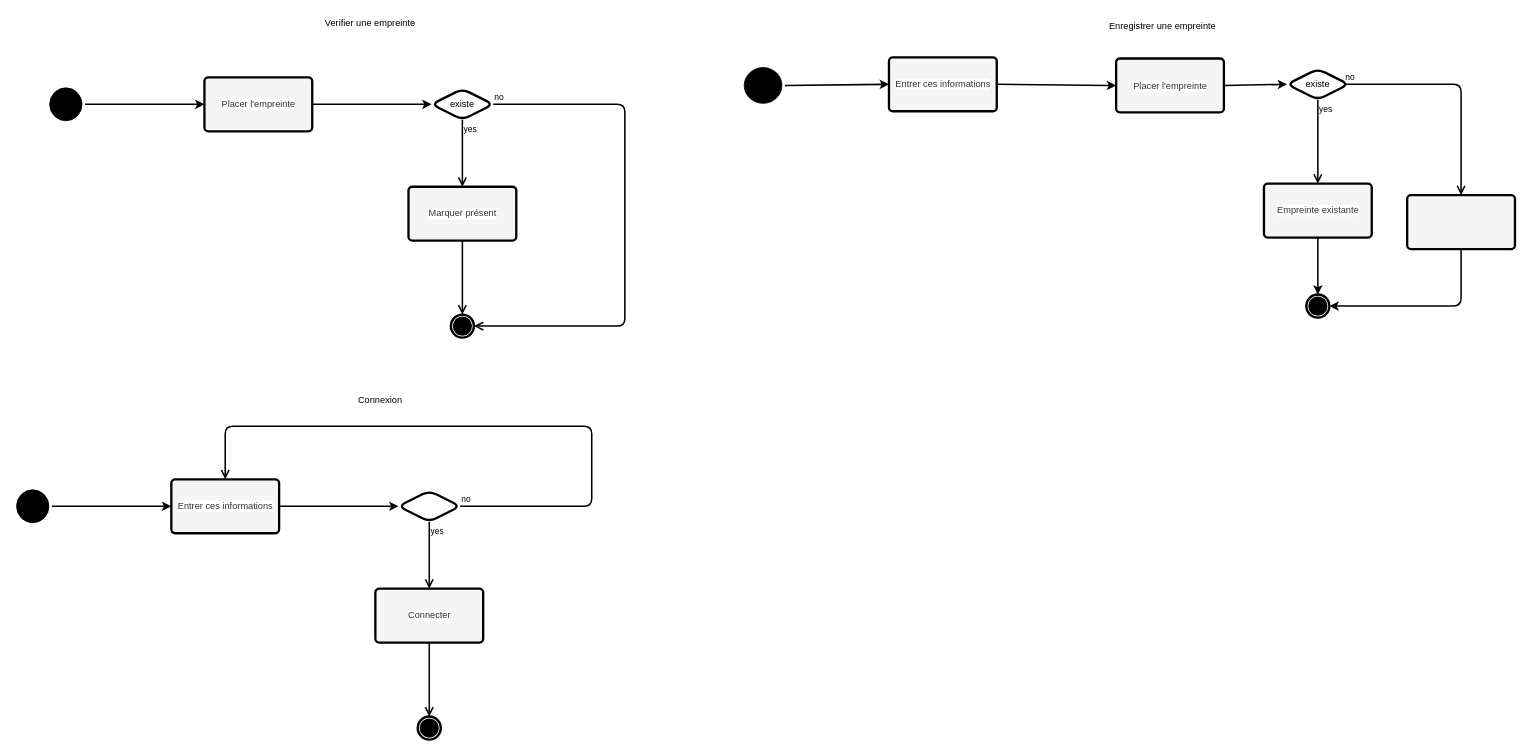
This 1529x754 diagram has some shape labels left out. Each missing label, with the centre of its shape:
"Empreinte enrégistrée" belongs at pixel 1461 222.
"valide" belongs at pixel 429 505.
